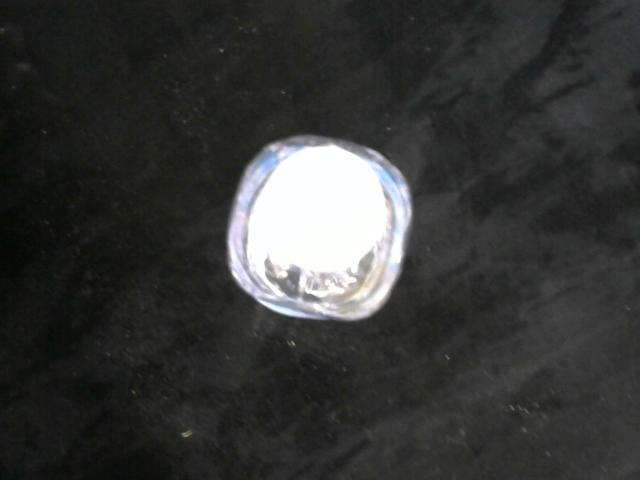bottle: (226, 132, 415, 324)
